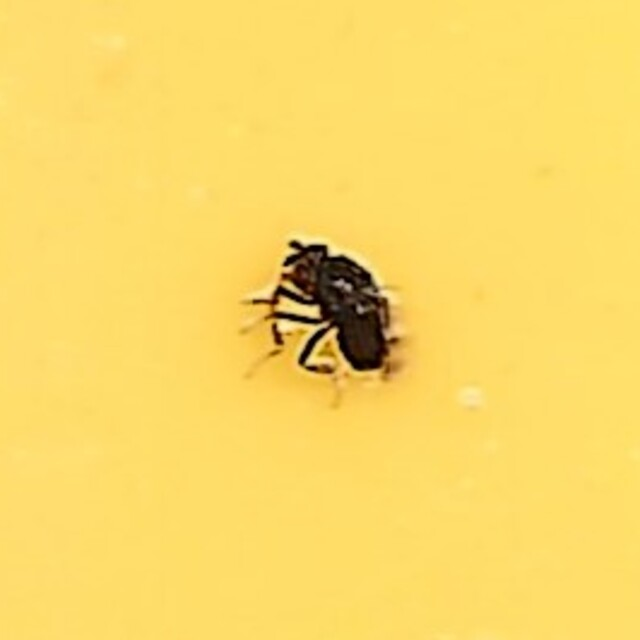Brachycera: (241, 238, 399, 402)
